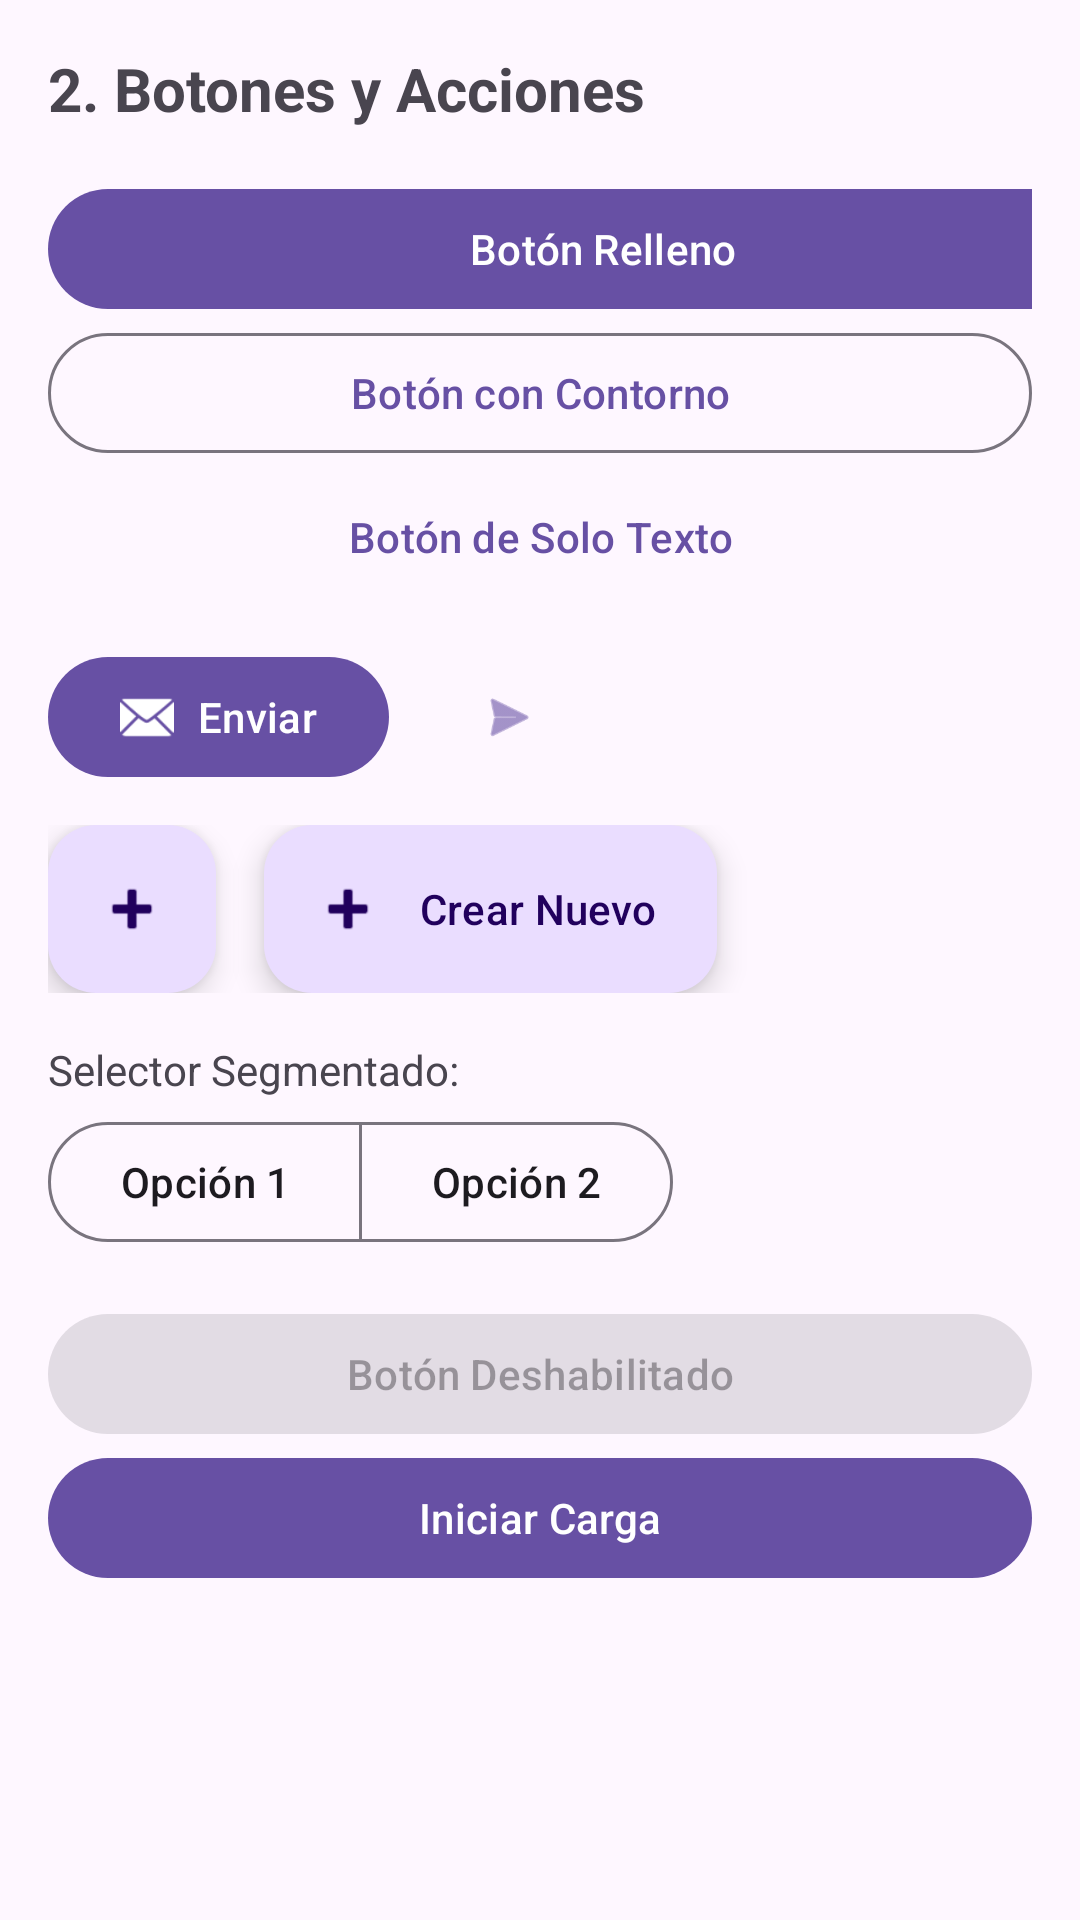

Locate icon controls on the screen. Image size 1080 x 1920, boxes as [x1=x1, y1=y1, x2=x2, y2=y2].
Añadir: [x1=48, y1=825, x2=216, y2=993]
send: [x1=490, y1=698, x2=529, y2=736]
